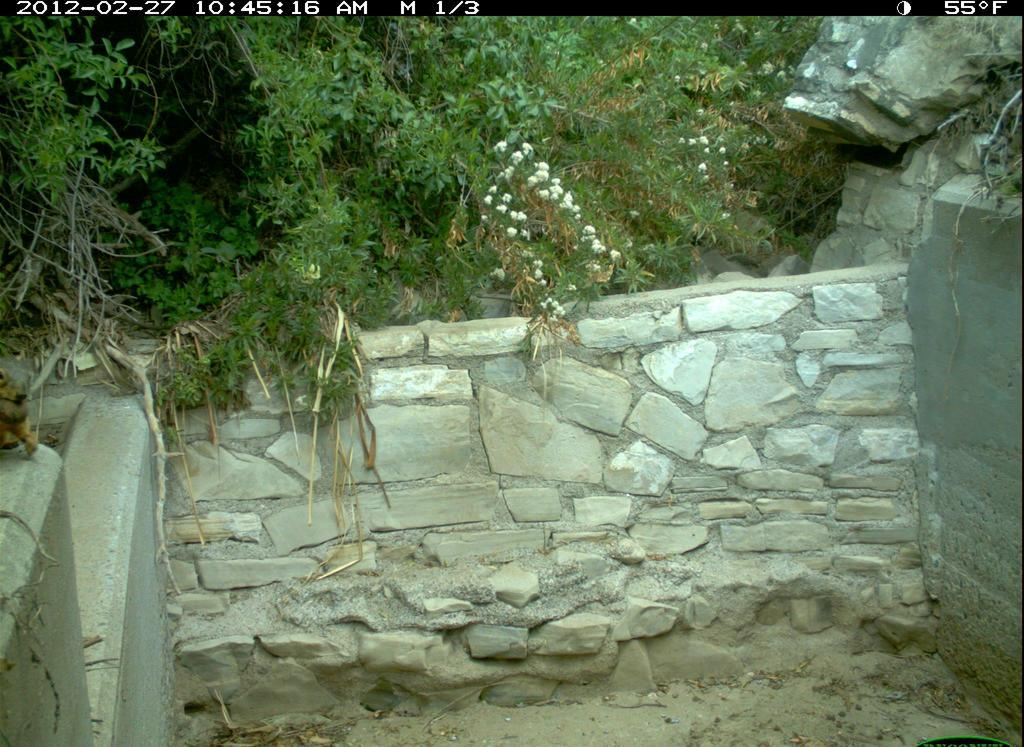squirrel: (2, 360, 52, 459)
